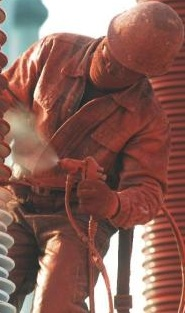gloves: (76, 178, 118, 222)
hard-hat: (107, 0, 185, 77)
ppe-suit: (2, 25, 176, 309)
